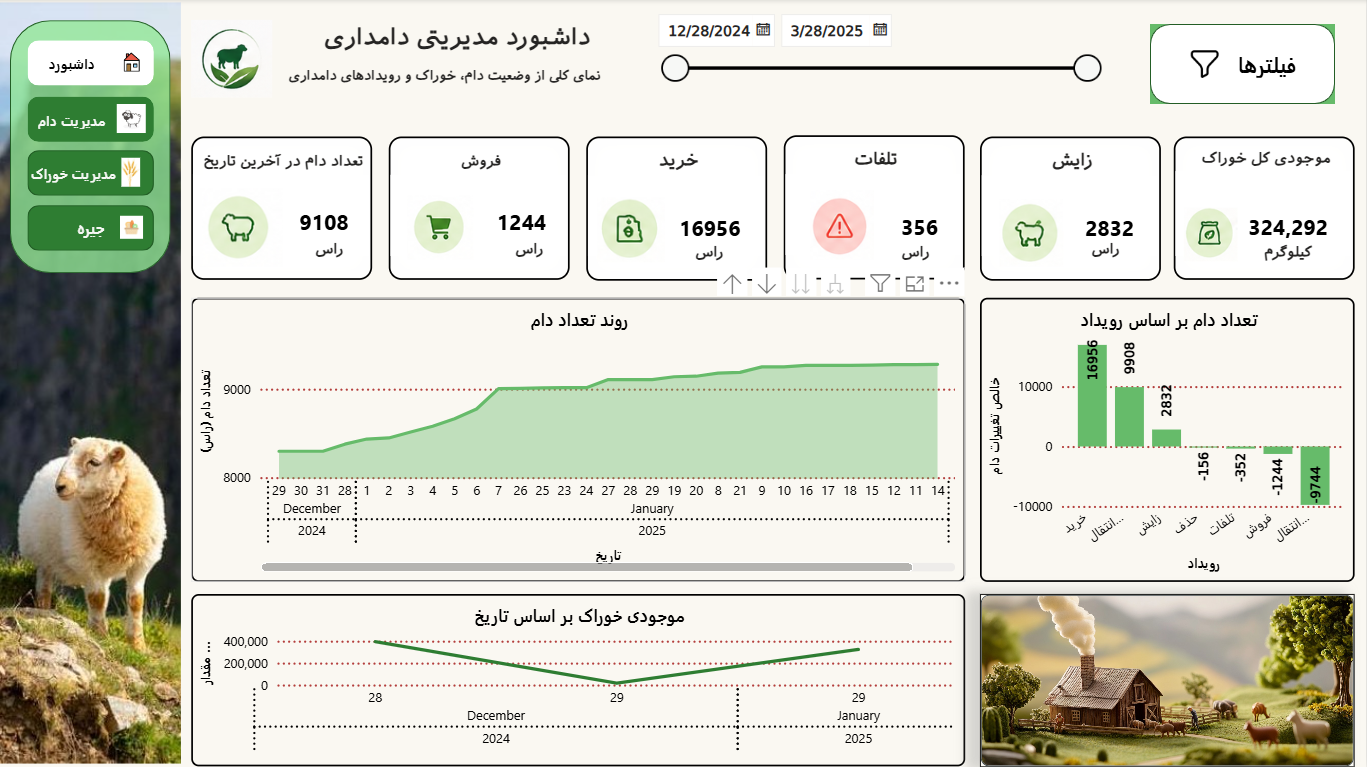

The page's visual inventory and layout, read from the dashboard file:
{"tool":"powerbi","page":{"name":"داشبورد مدیریتی","canvas":[1280,720],"ordinal":0},"visuals":[{"type":"shape","box":[1078.1,23.4,173.4,75],"z":0,"group":"g2"},{"type":"cardVisual","title":"تعداد دام در آخرین تاریخ","fields":{"Data":["موجودی روزانه دام.تعداد دام در آخرین تاریخ"]},"box":[179.3,128.9,169.9,134.8],"z":0},{"type":"shape","box":[26.1,142.2,118.5,42.7],"z":0,"group":"g1"},{"type":"image","box":[1109.7,39.8,38.7,42.2],"z":1000,"group":"g2"},{"type":"cardVisual","title":"خرید","fields":{"Data":["رویداد.تعداد خرید"]},"box":[549.6,128.4,169.9,135],"z":1000},{"type":"image","box":[109.1,149.3,27.3,27.3],"z":1000,"group":"g1"},{"type":"cardVisual","title":"فروش","fields":{"Data":["رویداد.تعداد فروش"]},"box":[364.5,128.9,169.9,134.8],"z":2000},{"type":"cardVisual","title":"زایش","fields":{"Data":["رویداد.تعداد زایش"]},"box":[918.5,129.1,169.9,135],"z":3000},{"type":"cardVisual","title":"تلفات","fields":{"Data":["رویداد.تعداد تلفات"]},"box":[734.3,127.3,169.9,135],"z":4000},{"type":"cardVisual","title":"موجودی کل خوراک","fields":{"Data":["گزارش موجودی خوراک.موجودی خوراک در آخرین تاریخ"]},"box":[1100.4,128.9,169.9,134.8],"z":5000},{"type":"stackedAreaChart","title":"روند تعداد دام","fields":{"Category":["DimDate.سال","DimDate.نام ماه","DimDate.روز"],"Y":["موجودی روزانه دام.تعداد کل دام"]},"box":[179.3,280.1,725.4,266],"z":6000},{"type":"lineChart","title":"موجودی خوراک بر اساس تاریخ","fields":{"Y":["گزارش موجودی خوراک.مقدار کل موجودی خوراک"],"Category":["DimDate.سال","DimDate.نام ماه","DimDate.روز"]},"box":[179.3,557.8,725.4,161.7],"z":7000},{"type":"columnChart","title":"تعداد دام بر اساس رویداد","fields":{"Category":["DimEventType.رویداد"],"Y":["رویداد.خالص تغییرات دام"]},"box":[918.8,280.1,351.6,266],"z":8000},{"type":"image","box":[0,0,169.5,720.6],"z":9000},{"type":"shape","box":[9.5,20.1,150.5,237],"z":10000},{"type":"shape","box":[26.1,39.1,118.5,42.7],"z":11000},{"type":"shape","box":[26.1,91.3,118.5,42.7],"z":12000},{"type":"shape","box":[26.1,193.2,118.5,42.7],"z":13000},{"type":"image","box":[105.5,45,35.6,29.6],"z":14000},{"type":"image","box":[105.5,98.4,35.6,27.3],"z":15000},{"type":"image","box":[112.6,199.1,21.3,29.6],"z":16000},{"type":"textbox","box":[254.8,19,317.6,81.8],"z":17000},{"type":"image","box":[179.3,18.8,76.2,75],"z":18000},{"type":"slicer","fields":{"Values":["DimDate.Date"]},"box":[604.7,2.3,435.9,103.1],"z":19000},{"type":"image","box":[187.5,174.6,77.3,79.7],"z":20000},{"type":"textbox","box":[288.3,222.7,41,25.8],"z":21000},{"type":"textbox","box":[475.8,222.7,41,25.8],"z":22000},{"type":"image","box":[378.5,184,69.1,59.8],"z":23000},{"type":"textbox","box":[644.5,224.5,41,25.8],"z":24000},{"type":"image","box":[557.8,185.9,68,60.9],"z":25000},{"type":"textbox","box":[837.4,224.5,41,25.8],"z":26000},{"type":"image","box":[759.4,178.1,59.8,66.8],"z":27000},{"type":"textbox","box":[1015.8,222.9,41,25.8],"z":28000},{"type":"image","box":[933.8,187.7,66.8,63.3],"z":29000},{"type":"textbox","box":[1173.1,225,69.1,25.8],"z":30000},{"type":"image","box":[1105.1,195.7,59.8,50.4],"z":31000},{"type":"image","box":[918.8,557.5,351.2,162.5],"z":32000},{"type":"group","id":"g1","title":"Group 1","box":[26.1,142.2,118.5,42.7],"z":33000},{"type":"group","id":"g2","title":"Group 3","box":[1078.1,23.4,173.4,75],"z":35000}]}

Visuals, with their boxes in screenshot pixels (x1, y1, x2, y2), scaled from the page's 1280x720 canvas onto the 1367x767 screenshot:
shape: select_region(1151, 25, 1337, 105)
"تعداد دام در آخرین تاریخ" cardVisual: select_region(191, 137, 373, 281)
shape: select_region(28, 151, 154, 197)
image: select_region(1185, 42, 1226, 87)
"خرید" cardVisual: select_region(587, 137, 768, 281)
image: select_region(117, 159, 146, 188)
"فروش" cardVisual: select_region(389, 137, 571, 281)
"زایش" cardVisual: select_region(981, 138, 1162, 281)
"تلفات" cardVisual: select_region(784, 136, 966, 279)
"موجودی کل خوراک" cardVisual: select_region(1175, 137, 1357, 281)
"روند تعداد دام" stackedAreaChart: select_region(191, 298, 966, 582)
"موجودی خوراک بر اساس تاریخ" lineChart: select_region(191, 594, 966, 766)
"تعداد دام بر اساس رویداد" columnChart: select_region(981, 298, 1357, 582)
image: select_region(0, 0, 181, 766)
shape: select_region(10, 21, 171, 274)
shape: select_region(28, 42, 154, 87)
shape: select_region(28, 97, 154, 143)
shape: select_region(28, 206, 154, 251)
image: select_region(113, 48, 151, 79)
image: select_region(113, 105, 151, 134)
image: select_region(120, 212, 143, 244)
textbox: select_region(272, 20, 611, 107)
image: select_region(191, 20, 273, 100)
slicer - DimDate.Date: select_region(646, 2, 1111, 112)
image: select_region(200, 186, 283, 271)
textbox: select_region(308, 237, 352, 265)
textbox: select_region(508, 237, 552, 265)
image: select_region(404, 196, 478, 260)
textbox: select_region(688, 239, 732, 267)
image: select_region(596, 198, 668, 263)
textbox: select_region(894, 239, 938, 267)
image: select_region(811, 190, 875, 261)
textbox: select_region(1085, 237, 1129, 265)
image: select_region(997, 200, 1069, 267)
textbox: select_region(1253, 240, 1327, 267)
image: select_region(1180, 208, 1244, 262)
image: select_region(981, 594, 1356, 766)
"Group 1" group: select_region(28, 151, 154, 197)
"Group 3" group: select_region(1151, 25, 1337, 105)
